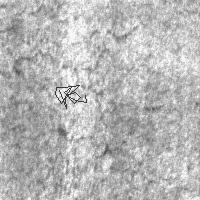crazing: (11, 50, 162, 175), (3, 3, 148, 56), (55, 85, 86, 108)
